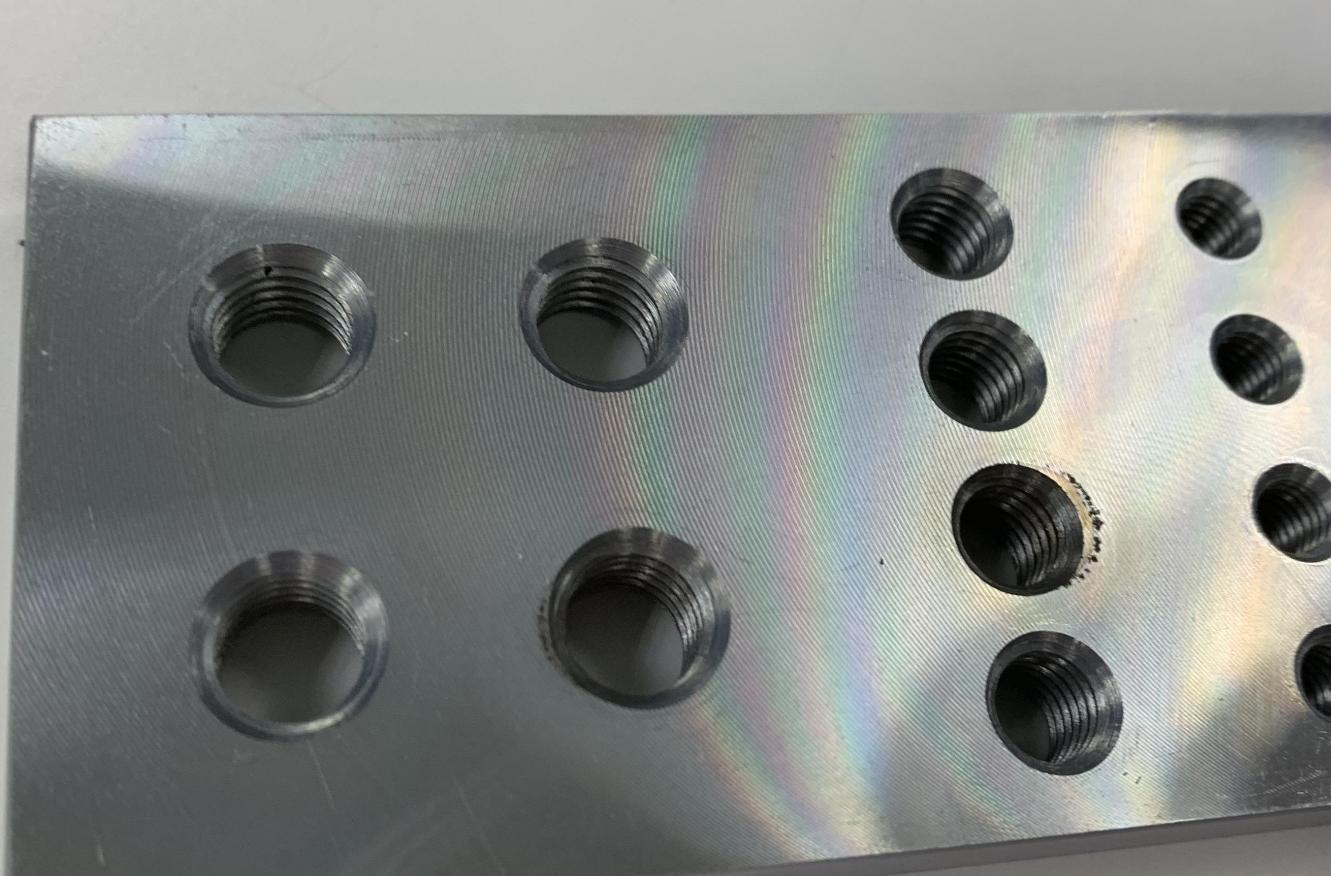hole: (171, 508, 417, 762), (501, 498, 770, 730), (486, 211, 722, 423), (152, 211, 388, 416), (958, 626, 1142, 782), (925, 458, 1109, 602), (892, 304, 1082, 438), (877, 159, 1027, 284), (1200, 295, 1324, 416), (1168, 161, 1282, 269), (1241, 456, 1331, 574), (1284, 608, 1331, 736)
